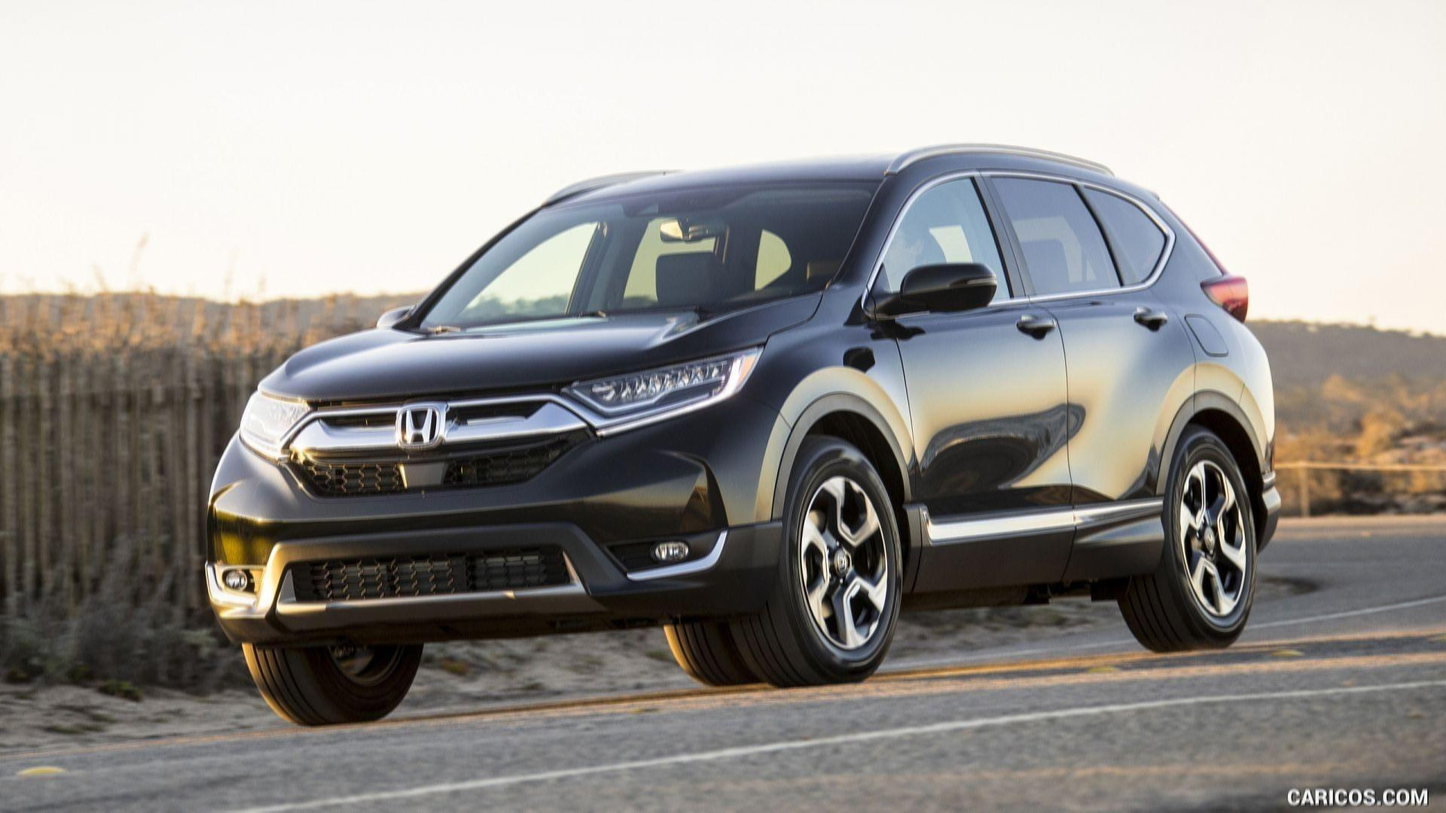Car hood: (247, 281, 837, 399)
Fender - -F-L-: (747, 279, 916, 609)
Fender - -R-L-: (1147, 200, 1269, 491)
Front bumper: (198, 378, 803, 656)
Headlight - -L-: (552, 343, 767, 438)
Headlight - -R-: (237, 385, 316, 465)
Passenger-s door - -F-L-: (860, 136, 1087, 604)
Passenger-s door - -R-L-: (980, 129, 1206, 607)
Rear bumper: (1255, 463, 1293, 572)
Rear light - -L-: (1194, 276, 1248, 331)
Side bumper - -L-: (891, 489, 1184, 631)
Side mirror - -L-: (854, 260, 1004, 333)
